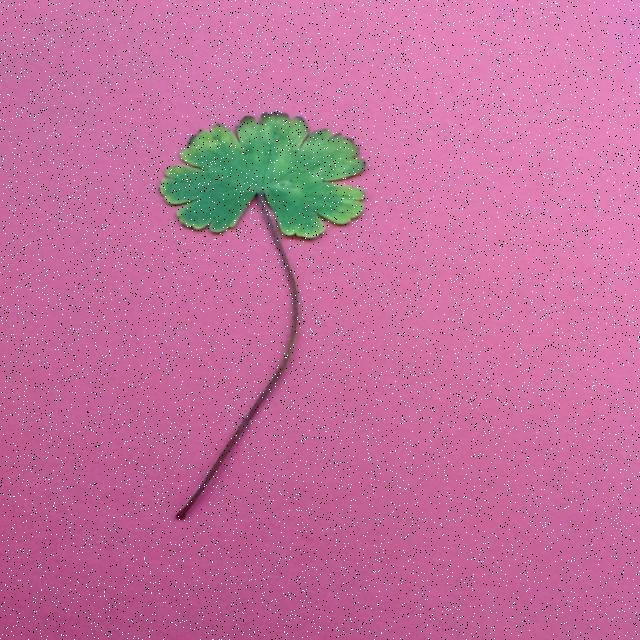foliage: (158, 110, 368, 520)
